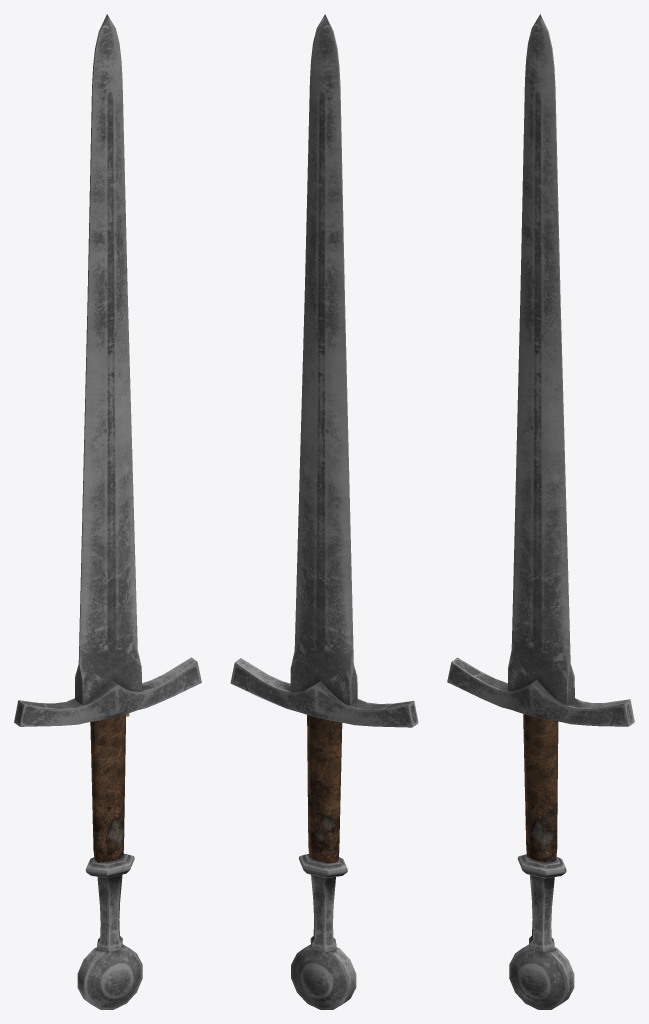
The model's file is ARC0510161.fbx.
3 renders of one model, left to right at view 1: azimuth 30°, elevation 25°; view 2: azimuth 150°, elevation 25°; view 3: azimuth 330°, elevation 25°, orthographic.
Parts seen in each view (by area): view 1: smARC0510161; view 2: smARC0510161; view 3: smARC0510161.
Boxes of the visible parts, <box> form: smARC0510161: <box>14,14,201,1009</box>; smARC0510161: <box>230,14,418,1009</box>; smARC0510161: <box>447,14,634,1009</box>.
Size of the model in its own units: 22.36 by 117 by 4.11.
Materials: 1 (1 with a texture image).
